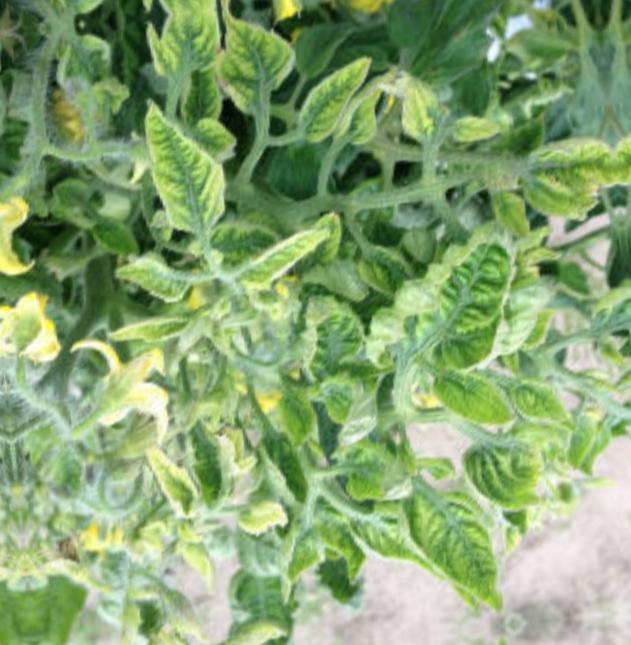Tomato leaf yellow virus: (345, 204, 543, 387), (402, 479, 530, 628), (124, 94, 243, 248), (504, 109, 621, 227), (415, 339, 536, 440), (271, 283, 391, 384), (107, 8, 234, 100), (284, 48, 387, 147), (206, 9, 301, 114), (57, 343, 178, 422)
